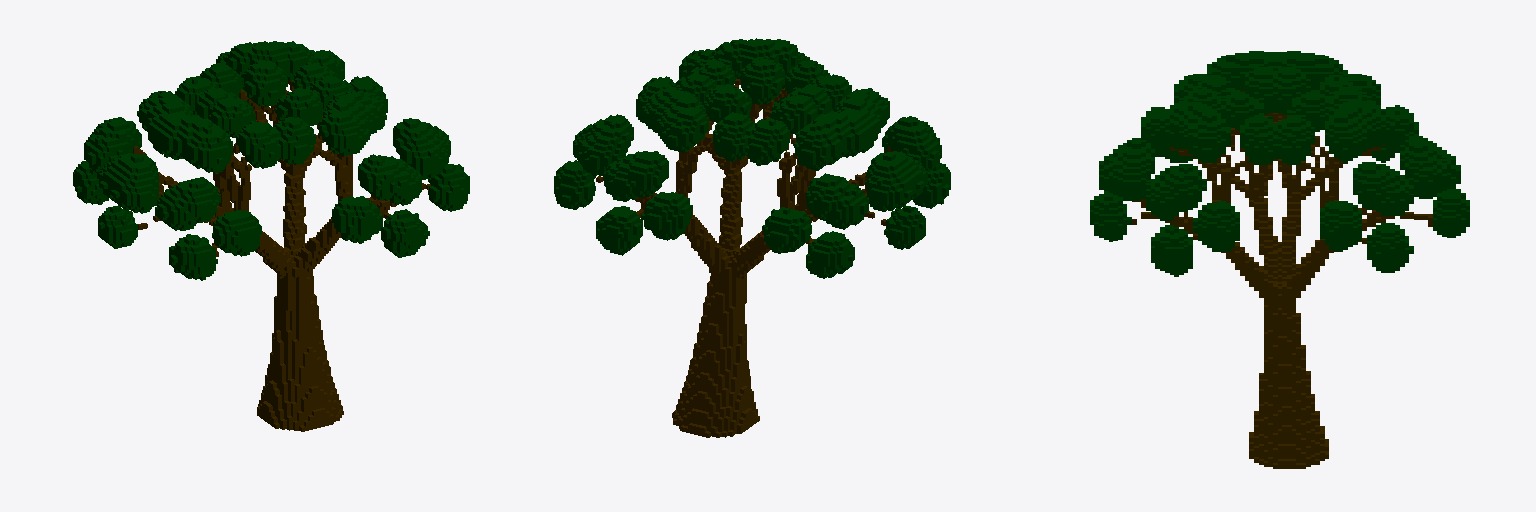
3 renders of one model, left to right at view 1: azimuth 30°, elevation 25°; view 2: azimuth 150°, elevation 25°; view 3: azimuth 270°, elevation 25°, orthographic.
Parts seen in each view (by area): view 1: Tree3; view 2: Tree3; view 3: Tree3.
Part boxes in pixels (bbox=[...]): Tree3: bbox=[73, 41, 469, 431]; Tree3: bbox=[554, 38, 950, 437]; Tree3: bbox=[1090, 51, 1469, 468].
Size of the model in its own units: 7.7 by 8.1 by 8.1.
Materials: 1 (1 with a texture image).